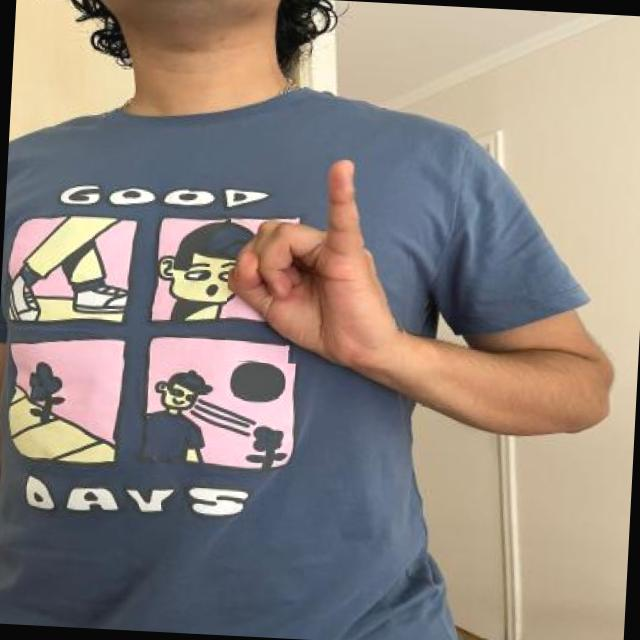I: (223, 146, 420, 370)
